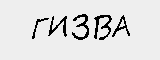Е: (121, 18, 142, 34)
С: (19, 12, 41, 37)
Т: (90, 17, 103, 37)
Щ: (63, 15, 91, 42)
Э: (105, 16, 121, 37)
Ө: (44, 14, 65, 37)
